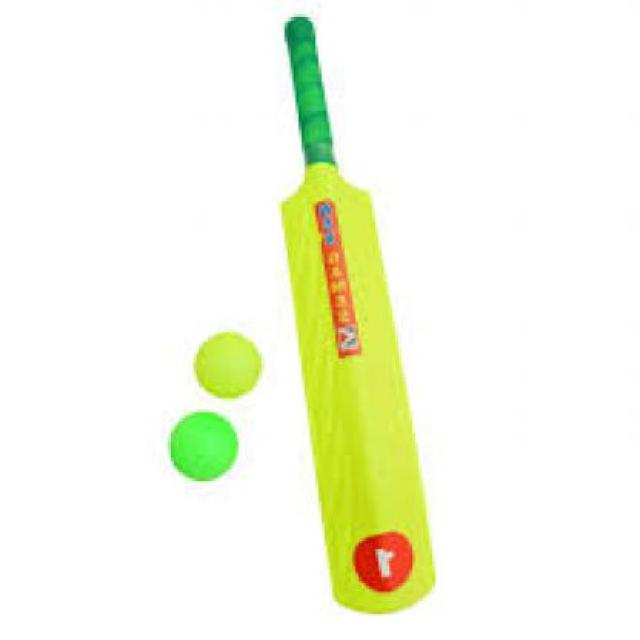ball: (123, 408, 260, 505), (168, 314, 283, 402)
